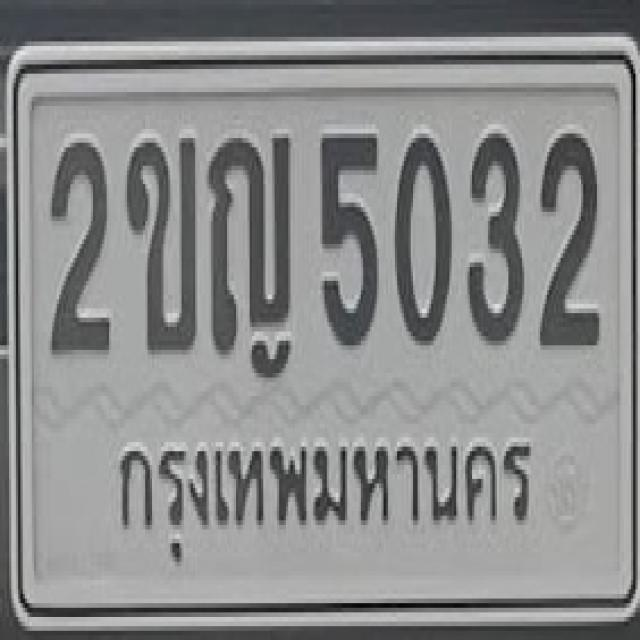license_plate: (8, 43, 640, 635)
